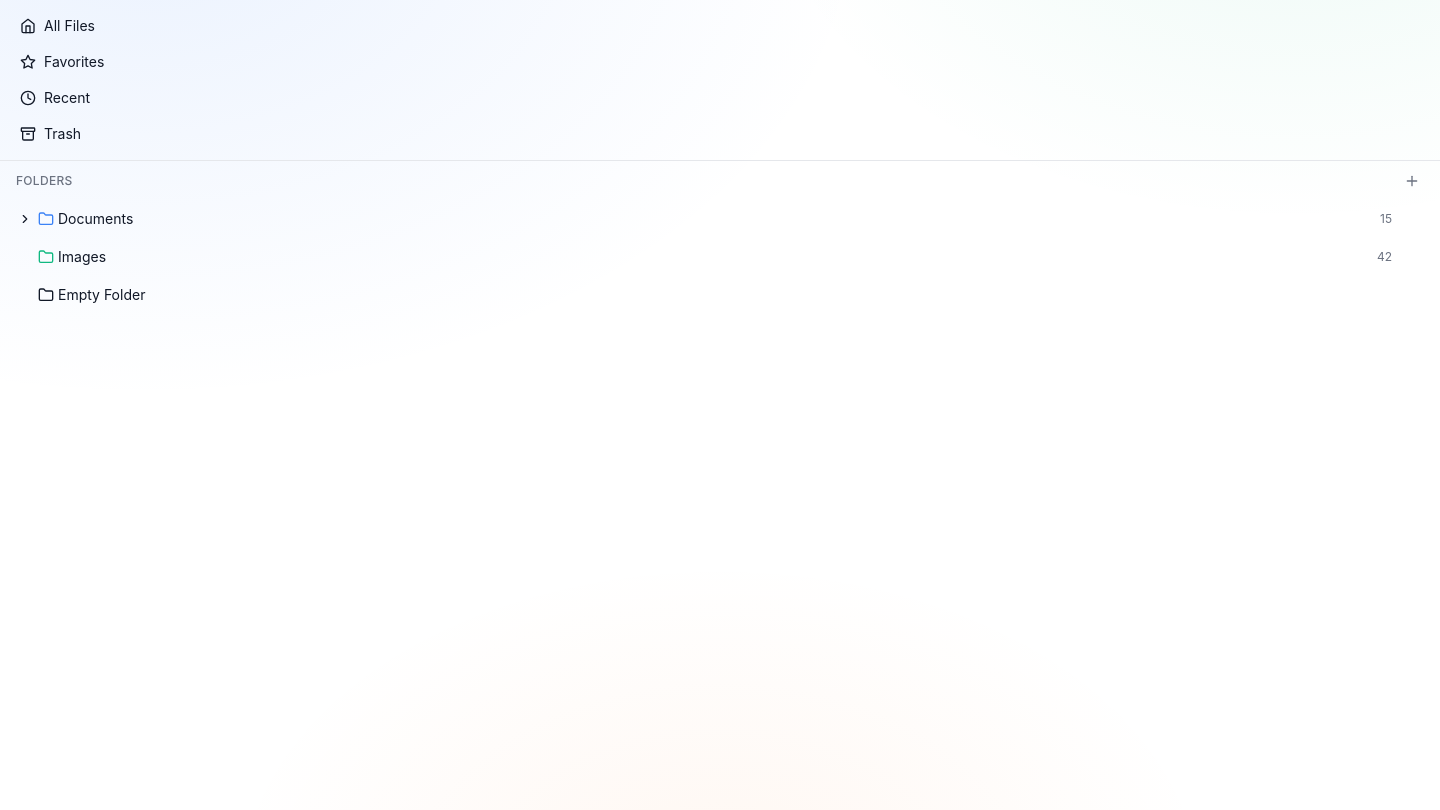
FolderTree › folder expansion › collapses folder when collapse button is clicked
The width and height of the screenshot is (1440, 810).
Click the 6th button: (25, 219) [16,210,34,228]
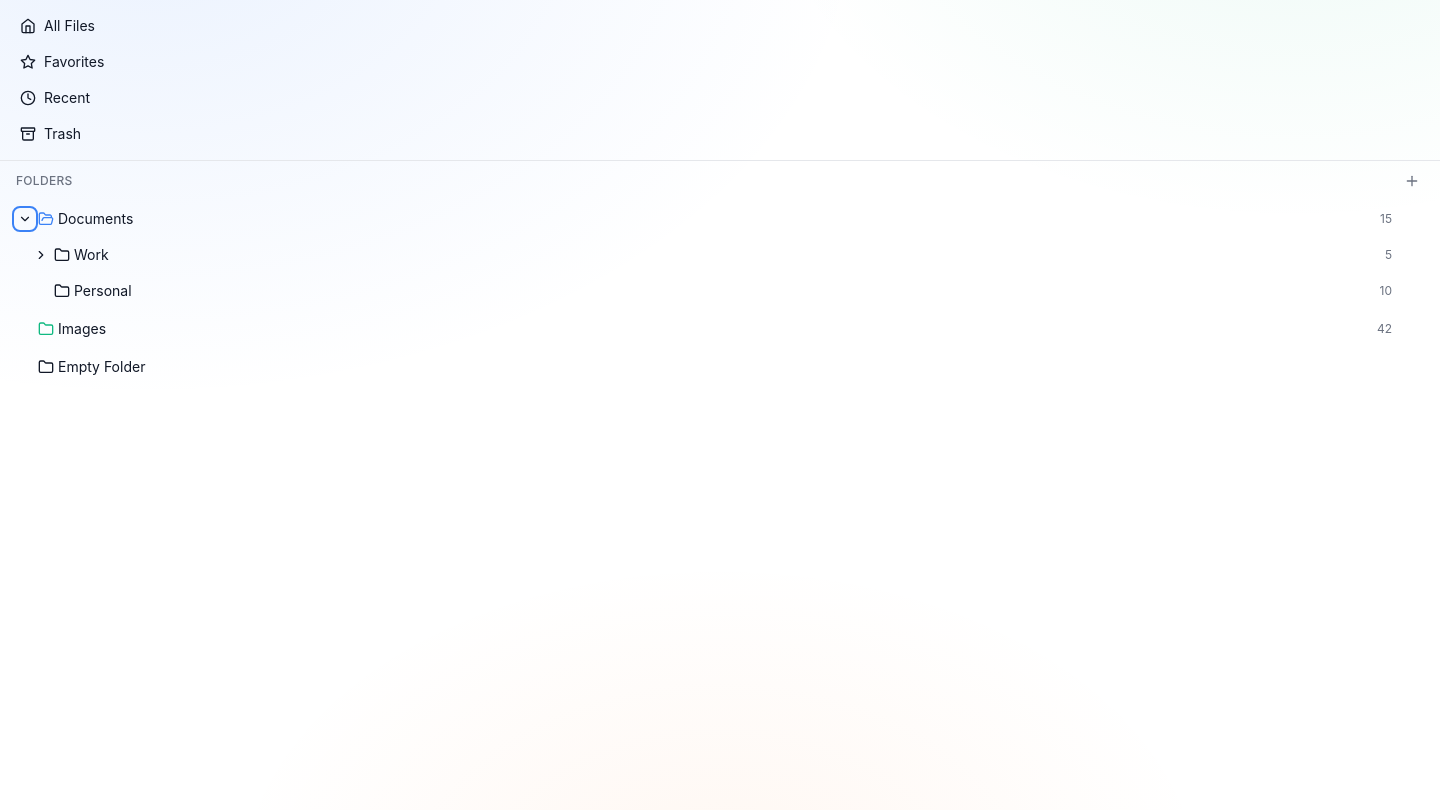
expect the text "Work" is shown: met, box [74,246,109,263]
Click the button without text next to "Documents": (25, 219) [16,210,34,228]
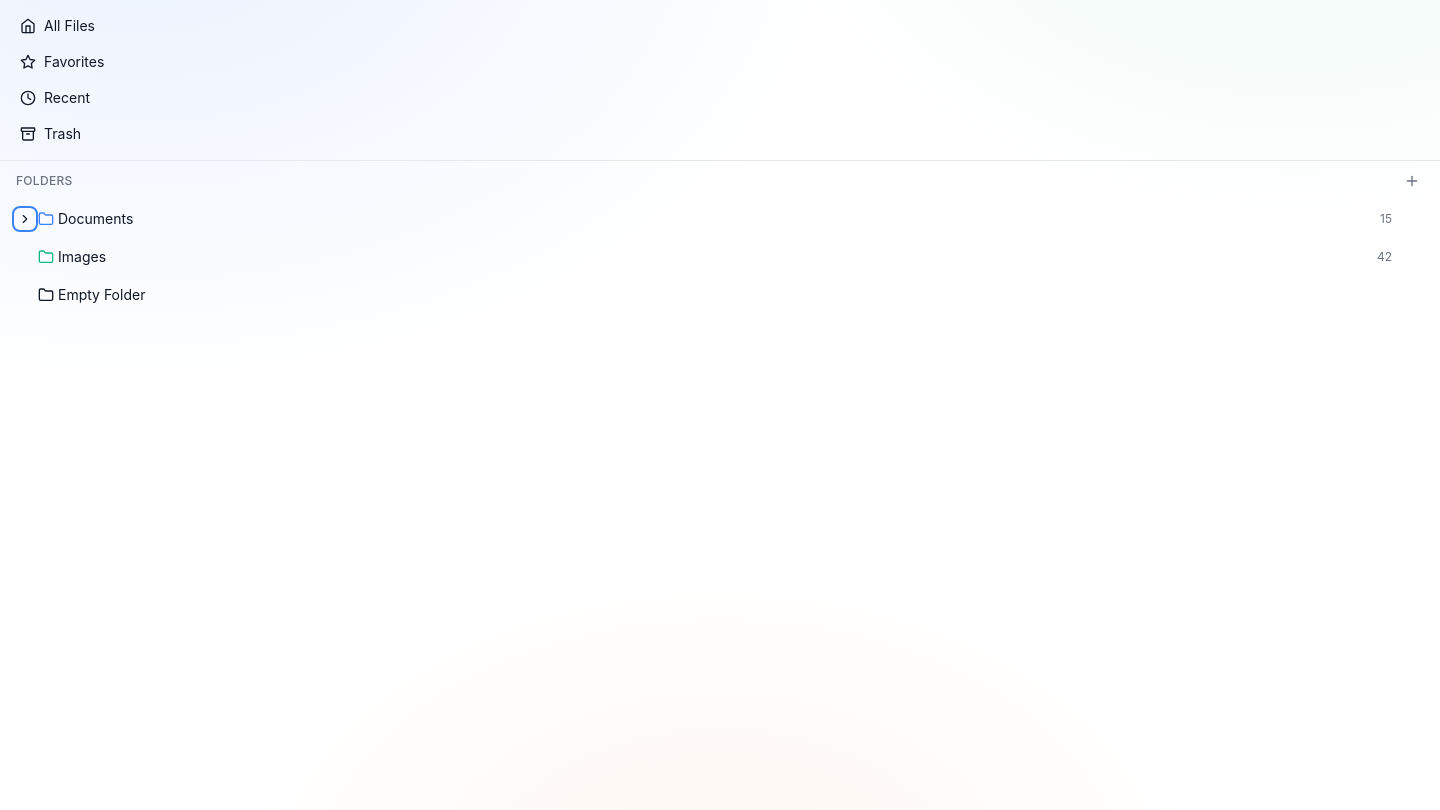
expect the text "Work" is gone: met
